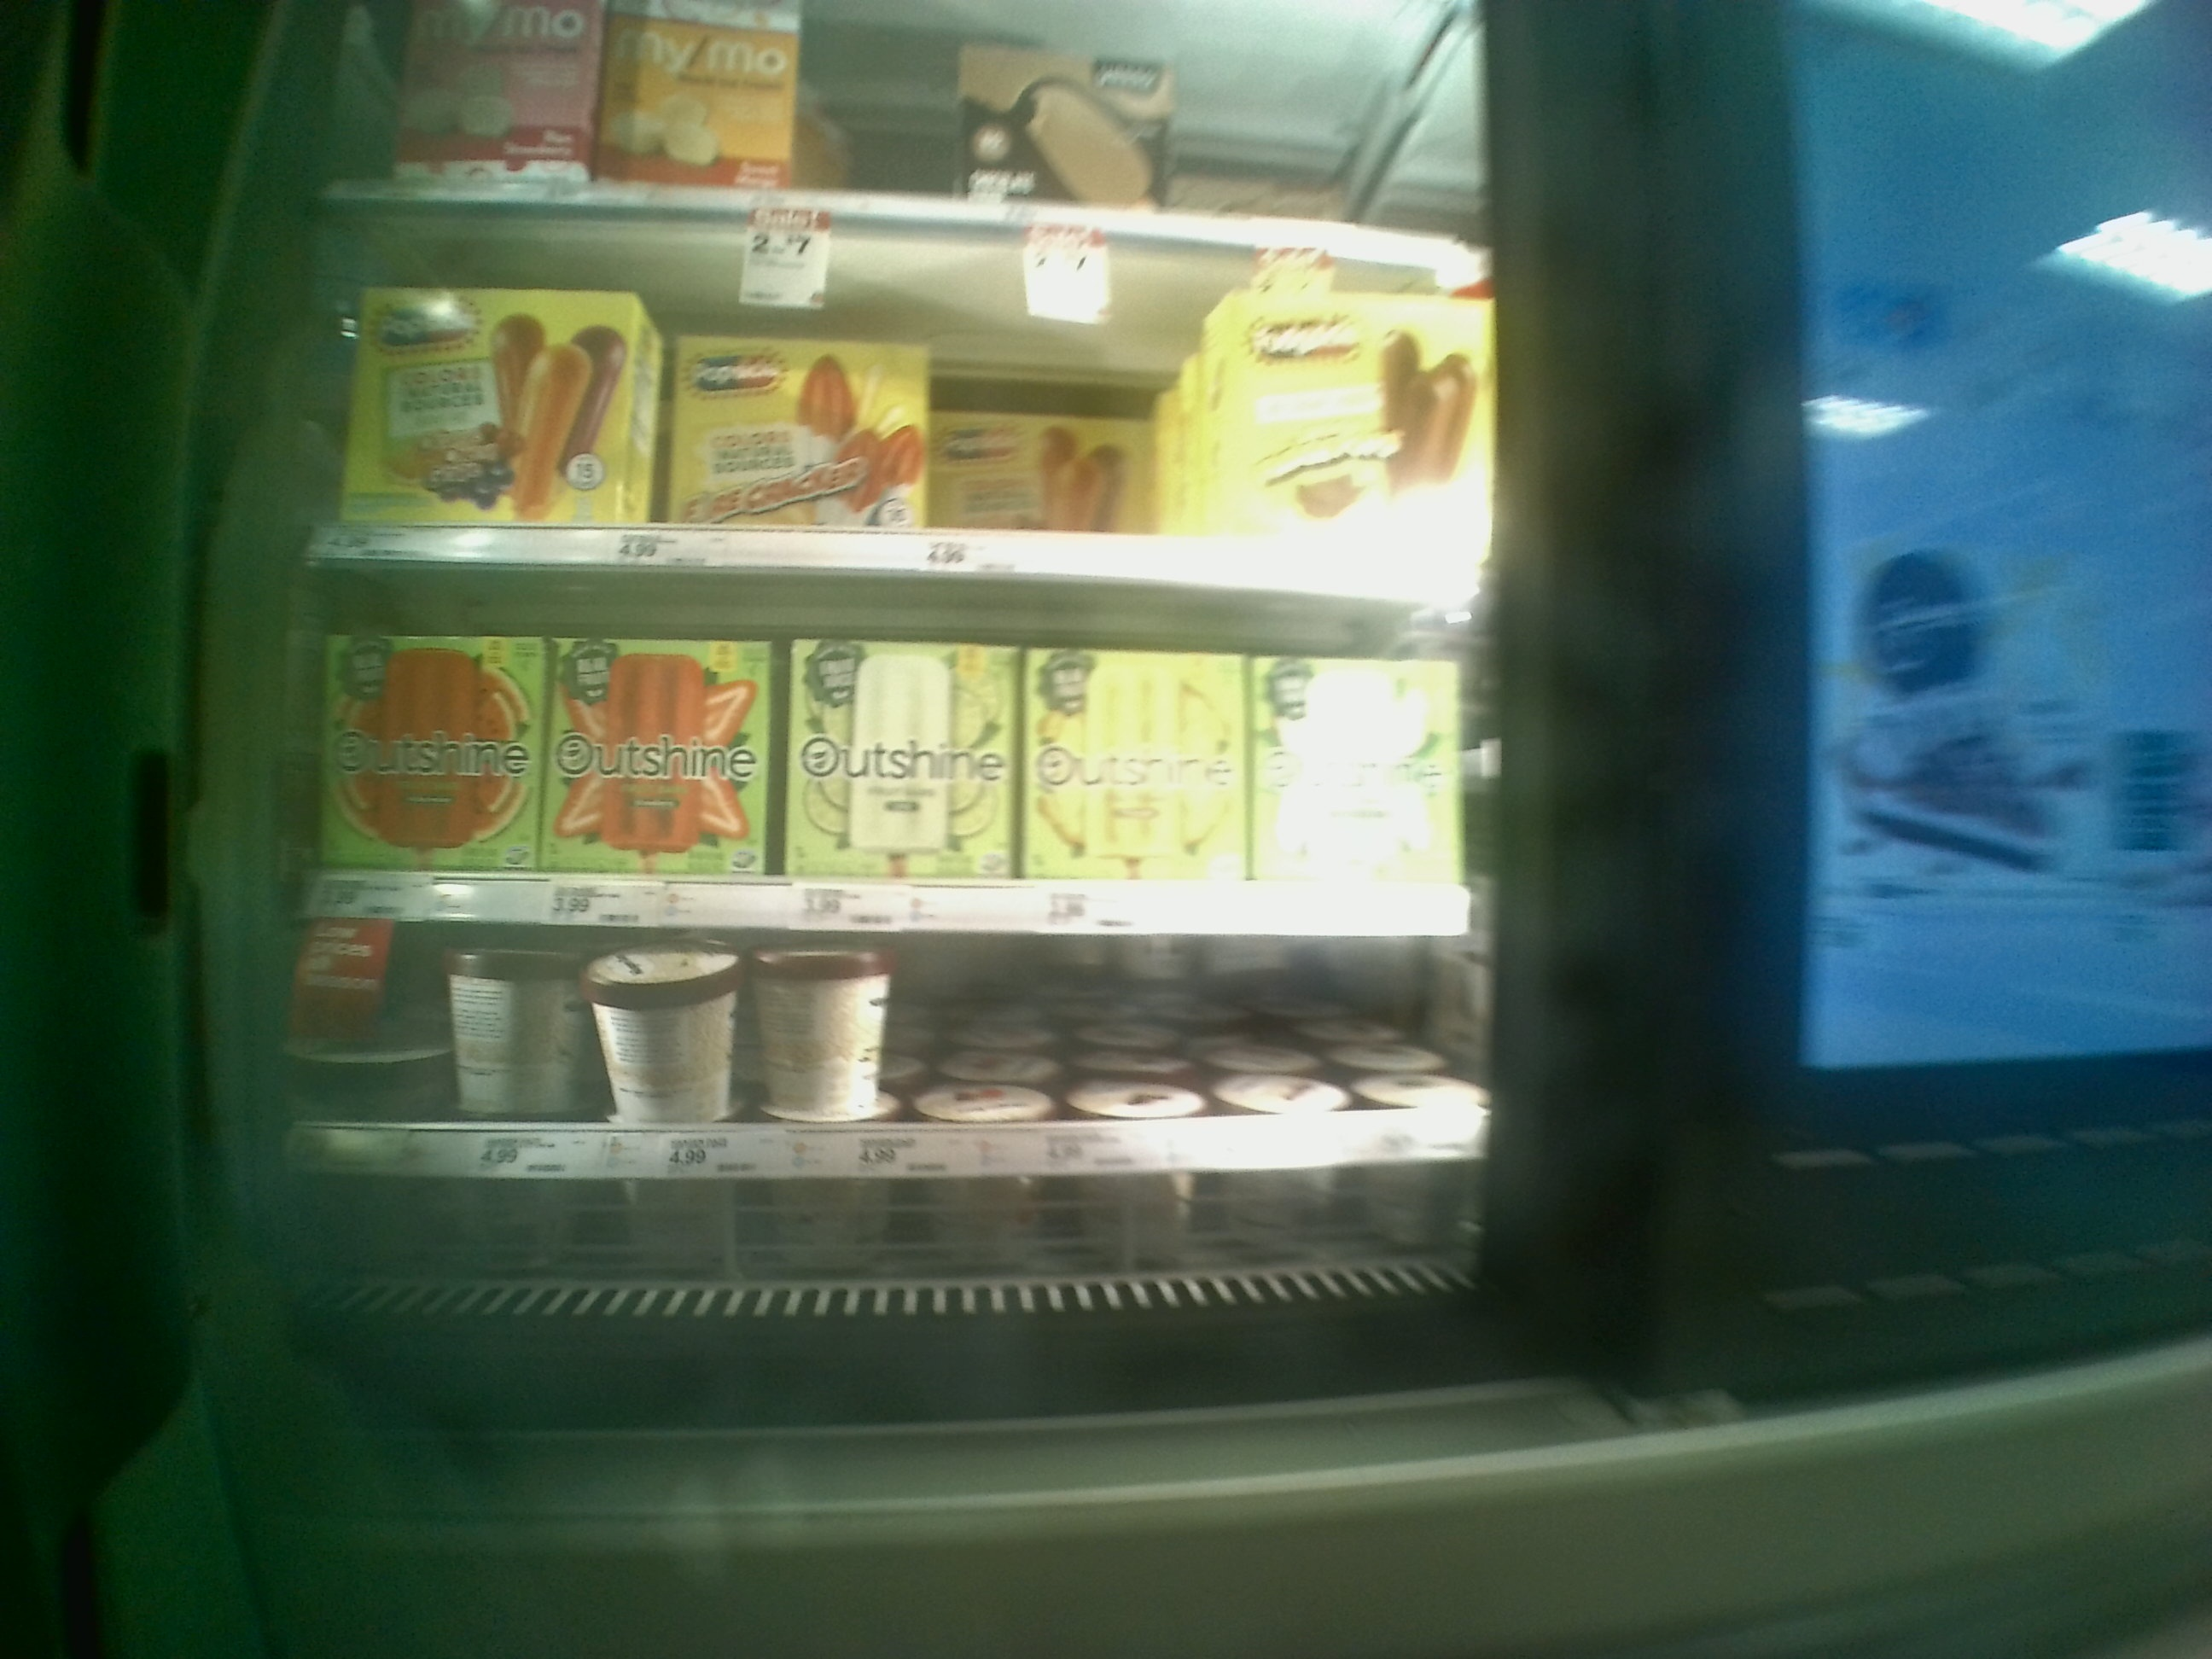ice-cream-shelf: (314, 214, 1486, 586), (315, 573, 1486, 932), (310, 917, 1491, 1183)
